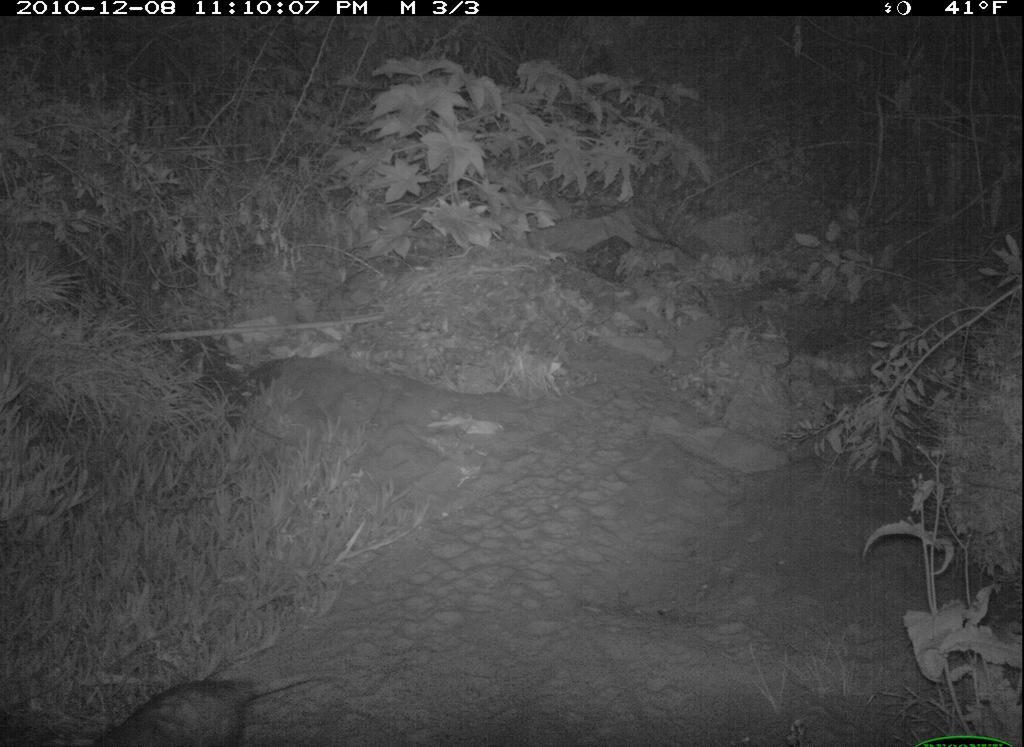opossum: (66, 651, 255, 744)
